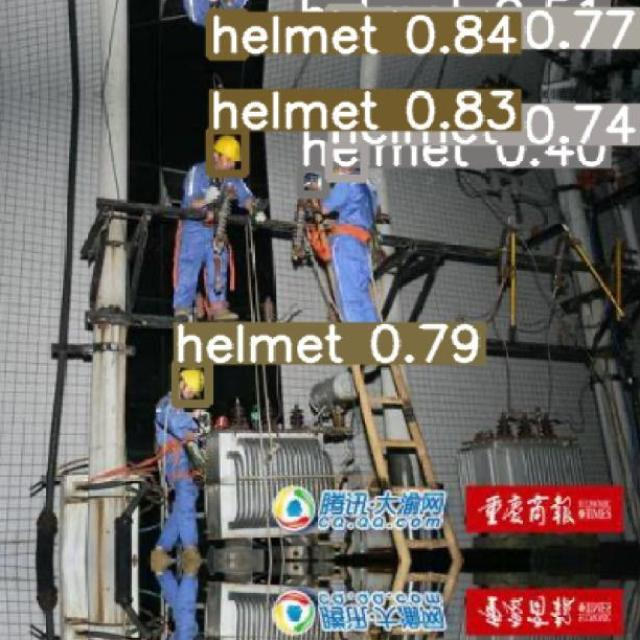helmet: (212, 136, 240, 162), (179, 368, 205, 394)
